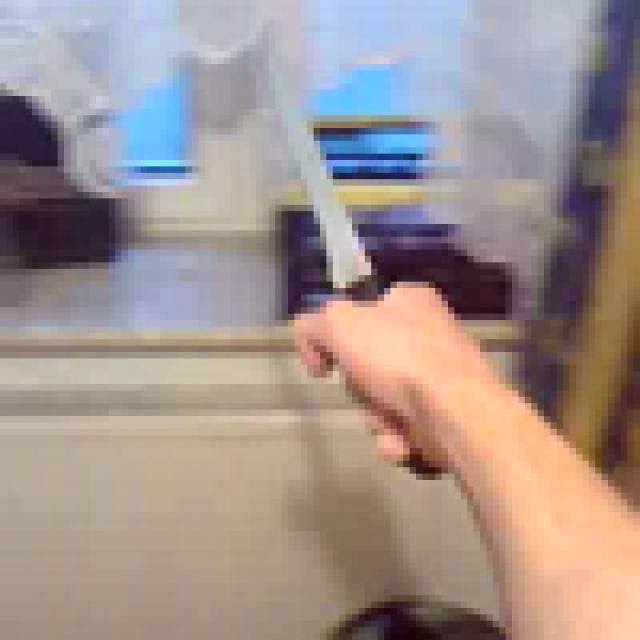weapon: (243, 32, 448, 480)
